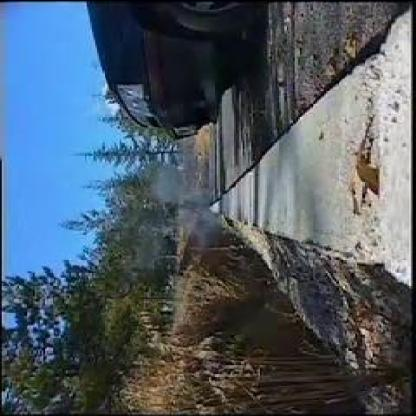-: (138, 172, 226, 244)
